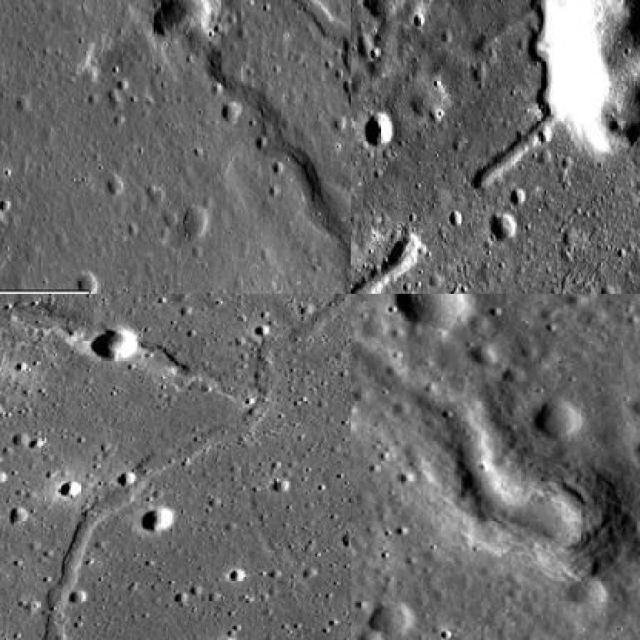rille: (6, 294, 349, 638), (351, 329, 591, 551), (143, 0, 349, 188), (524, 0, 554, 117)
